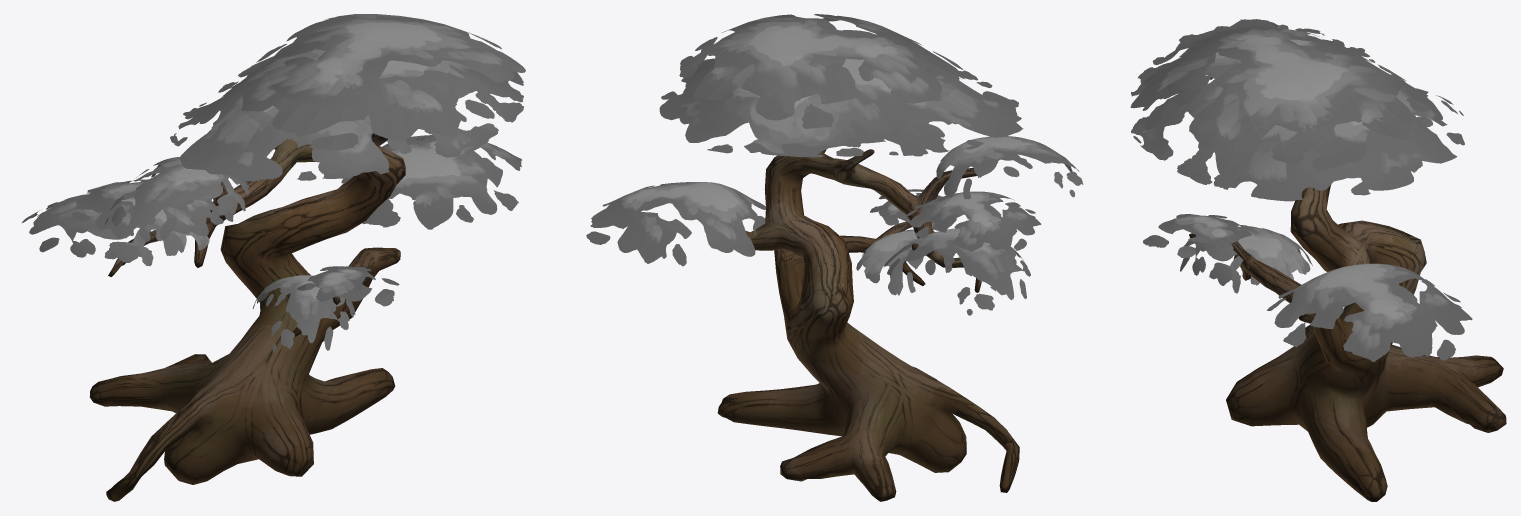
The model's file is BRUME_ArbreV02.fbx.
3 views of the same model, side by side, from view 1: azimuth 30°, elevation 25°; view 2: azimuth 150°, elevation 25°; view 3: azimuth 270°, elevation 25° (orthographic). The views are drawn at different scales.
Parts seen in each view (by area): view 1: BRUME_ArbreV02, FSphere.001, FSphere, FSphere.006, FSphere.002, FSphere.003, FSphere.004, FSphere.005, FSphere.007; view 2: BRUME_ArbreV02, FSphere.001, FSphere, FSphere.006, FSphere.004, FSphere.003, FSphere.002, FSphere.005, FSphere.007; view 3: BRUME_ArbreV02, FSphere.001, FSphere, FSphere.006, FSphere.005, FSphere.007.
Boxes of the visible parts, x1,y1,x2,y2 form: BRUME_ArbreV02: (89,133,405,501); FSphere.001: (241,14,525,150); FSphere: (170,49,523,181); FSphere.006: (339,135,522,229); FSphere.002: (105,157,249,239); FSphere.003: (22,192,209,266); FSphere.004: (72,179,233,241); FSphere.005: (252,275,355,352); FSphere.007: (297,266,399,306); BRUME_ArbreV02: (717,149,1019,501); FSphere.001: (679,14,962,128); FSphere: (659,58,1023,157); FSphere.006: (586,182,765,266); FSphere.004: (906,191,1041,251); FSphere.003: (884,228,1030,315); FSphere.002: (936,136,1083,199); FSphere.005: (856,229,935,295); FSphere.007: (870,189,941,225); BRUME_ArbreV02: (1189,184,1506,501); FSphere.001: (1130,27,1430,171); FSphere: (1131,19,1464,201); FSphere.006: (1267,263,1472,361); FSphere.005: (1180,224,1312,293); FSphere.007: (1143,214,1251,257).
Bounding box in the file's own units: 759 × 611 × 495.
